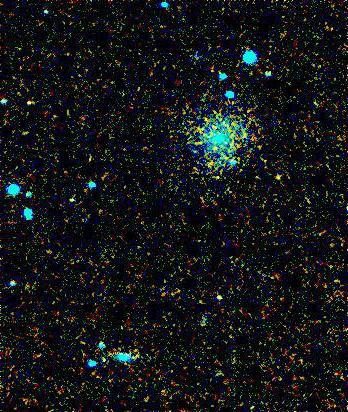star: (264, 158, 294, 188)
